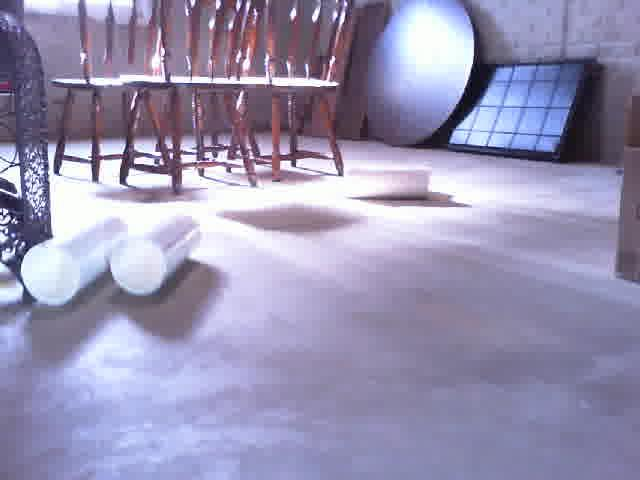coral: (18, 211, 130, 311), (106, 207, 207, 299), (338, 163, 438, 204)
